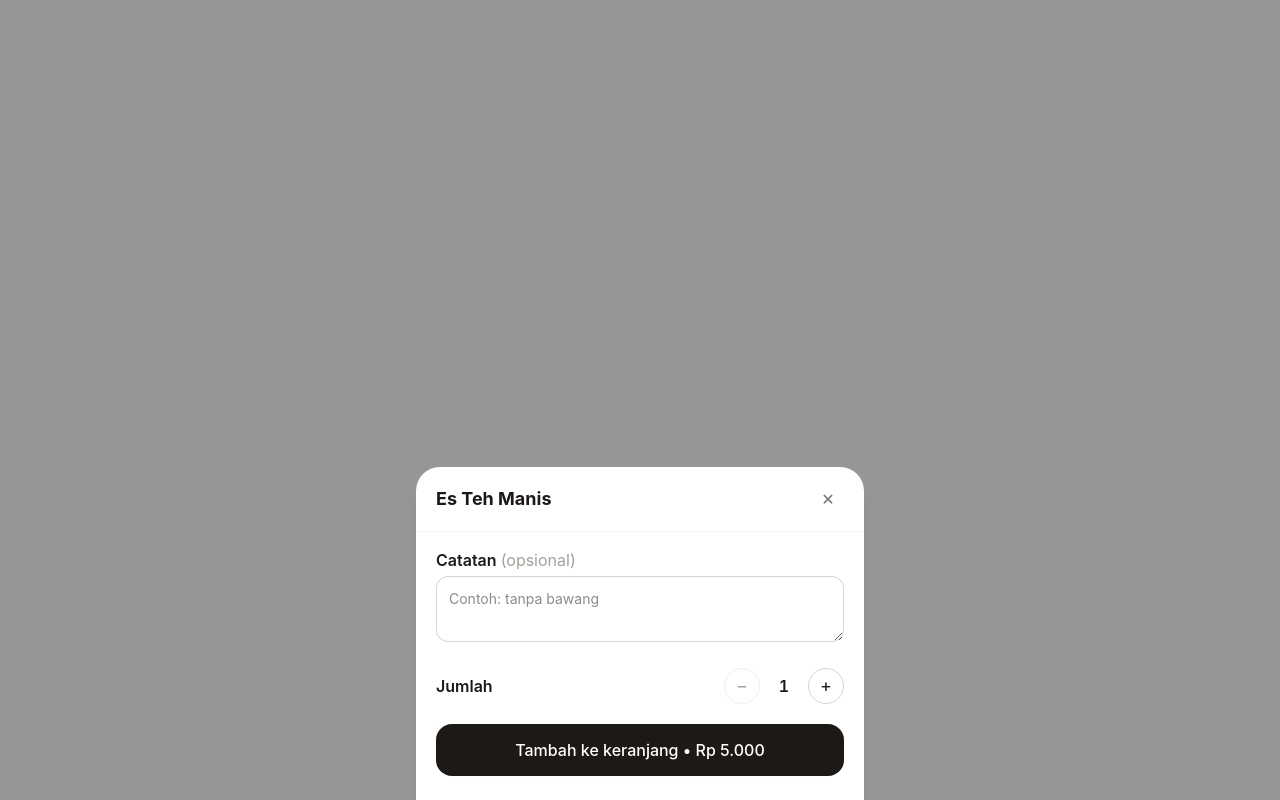
AddToCartSheet › menampilkan error dan tetap terbuka jika keranjang penuh
The width and height of the screenshot is (1280, 800).
Click the button "Tambah ke keranjang • Rp 5.000": [640, 750] box [436,724,844,776]
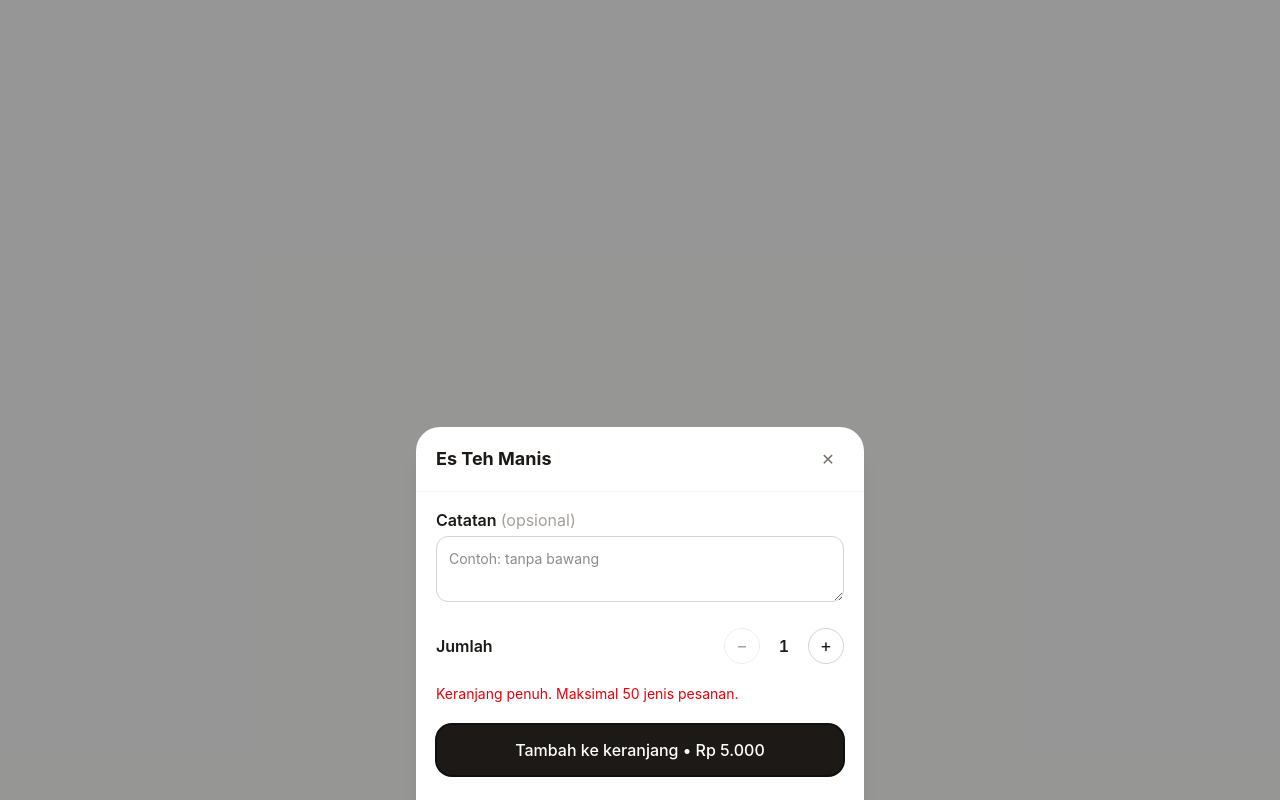
Now the message shows "Keranjang penuh", box [436,685,738,702]
